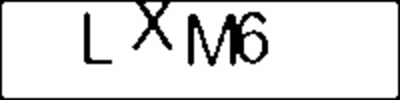6: (236, 9, 270, 66)
L: (80, 7, 120, 71)
M: (185, 10, 241, 73)
X: (129, 1, 177, 55)
